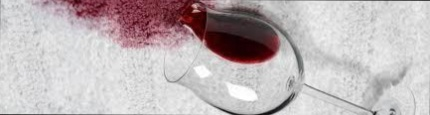wine: (40, 0, 200, 51)
